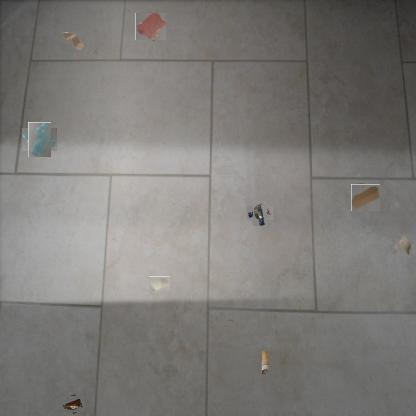dirty: (352, 184, 379, 212), (61, 32, 85, 52), (250, 203, 270, 223), (62, 394, 82, 414), (394, 236, 414, 256), (148, 276, 170, 291), (260, 352, 270, 378)
liquid: (136, 12, 165, 41), (25, 125, 54, 154)
